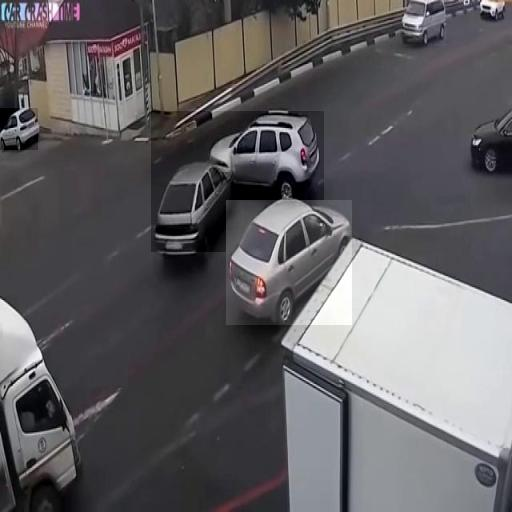小汽车: (226, 200, 352, 325), (404, 0, 446, 46), (0, 108, 38, 150)
小汽车撞小汽车: (151, 111, 324, 252)
